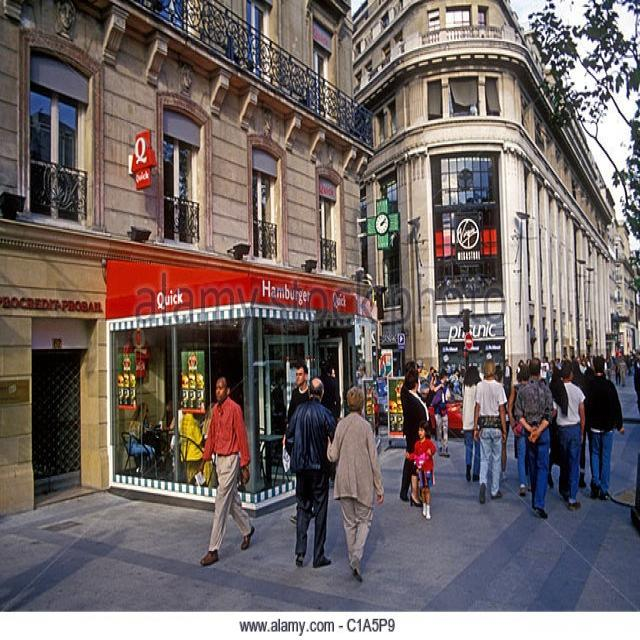body: (195, 373, 256, 567), (281, 374, 341, 568), (326, 384, 385, 580), (127, 390, 209, 486), (512, 354, 553, 518), (303, 496, 381, 579), (582, 352, 624, 499), (549, 358, 586, 512), (472, 356, 508, 504), (286, 362, 317, 527), (398, 366, 430, 504), (402, 417, 437, 520), (507, 363, 533, 499), (461, 363, 483, 483), (577, 366, 596, 489), (429, 366, 452, 459), (494, 363, 511, 482), (320, 363, 344, 421), (626, 346, 640, 414), (538, 376, 557, 420), (501, 359, 513, 401), (554, 352, 590, 366), (524, 356, 535, 394), (616, 353, 627, 387), (600, 350, 612, 380), (539, 355, 550, 387), (426, 363, 439, 390), (608, 353, 617, 389), (359, 364, 368, 400), (403, 360, 422, 377), (613, 352, 622, 387), (546, 357, 556, 386), (354, 363, 363, 391), (452, 367, 460, 396), (515, 359, 525, 376), (458, 361, 466, 382)
